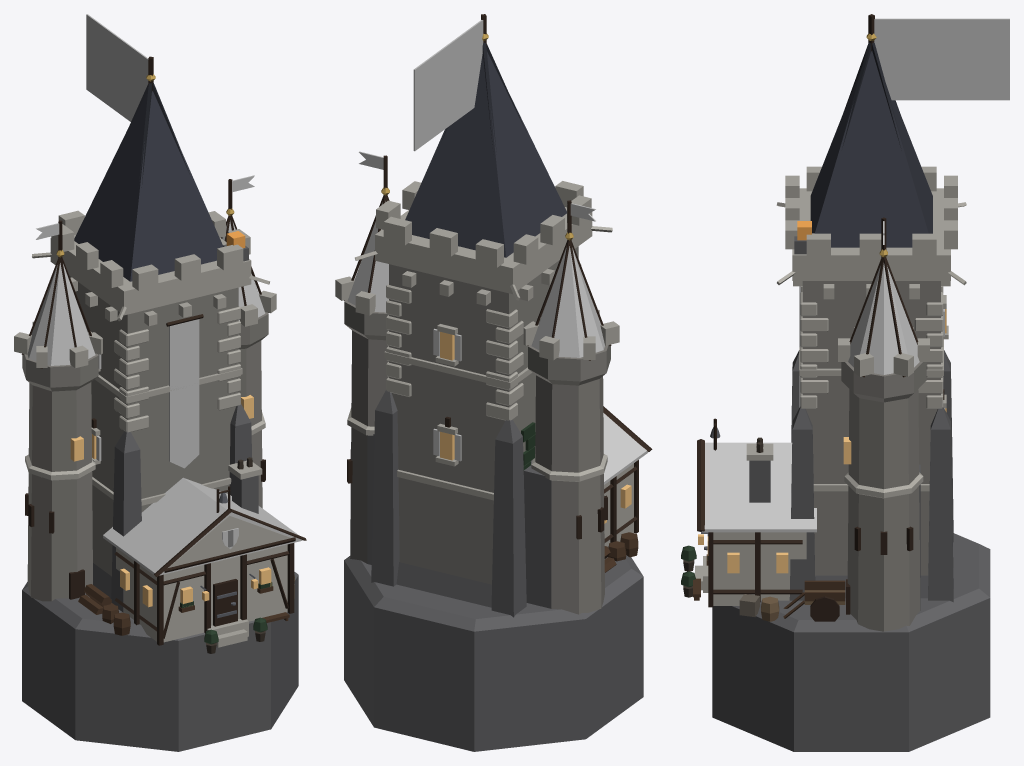
Rendered from seat.glb.
3 renders of one model, left to right at view 1: azimuth 30°, elevation 25°; view 2: azimuth 150°, elevation 25°; view 3: azimuth 270°, elevation 25°, orthographic. The views are drawn at different scales.
Visible parts, largest first — view 1: tower, round towers, keep close!fine, roof@blackwood, hall, hall roof, pennant, banner, cones, roof close@blackwood!fine, stores, hall lights (+1 smaller); view 2: tower, round towers, roof@blackwood, keep close!fine, pennant, cones, hall roof, hall, keep shutters!fine, tower windows, roof close@blackwood!fine, stores; view 3: tower, round towers, roof@blackwood, keep close!fine, pennant, hall roof, hall, cones, roof close@blackwood!fine, stores, keep lights!fine.
Boxes of the visible parts, x1=… form: tower: x1=22, y1=210, x2=298, y2=751; round towers: x1=14, y1=290, x2=276, y2=601; keep close!fine: x1=21, y1=216, x2=306, y2=653; roof@blackwood: x1=74, y1=91, x2=223, y2=281; hall: x1=116, y1=473, x2=294, y2=647; hall roof: x1=103, y1=477, x2=302, y2=575; pennant: x1=86, y1=14, x2=148, y2=121; banner: x1=169, y1=319, x2=199, y2=468; cones: x1=27, y1=220, x2=265, y2=365; roof close@blackwood!fine: x1=113, y1=74, x2=189, y2=187; stores: x1=102, y1=575, x2=294, y2=635; hall lights: x1=180, y1=567, x2=271, y2=605; tower: x1=344, y1=181, x2=643, y2=751; round towers: x1=335, y1=264, x2=619, y2=614; roof@blackwood: x1=405, y1=51, x2=566, y2=257; keep close!fine: x1=344, y1=195, x2=652, y2=607; pennant: x1=413, y1=20, x2=483, y2=151; cones: x1=347, y1=201, x2=604, y2=357; hall roof: x1=603, y1=413, x2=647, y2=484; hall: x1=604, y1=460, x2=638, y2=546; keep shutters!fine: x1=433, y1=328, x2=461, y2=461; tower windows: x1=440, y1=332, x2=454, y2=460; roof close@blackwood!fine: x1=442, y1=33, x2=526, y2=154; stores: x1=608, y1=532, x2=638, y2=561; tower: x1=712, y1=166, x2=990, y2=751; round towers: x1=838, y1=327, x2=929, y2=631; roof@blackwood: x1=810, y1=51, x2=932, y2=247; keep close!fine: x1=683, y1=202, x2=966, y2=621; pennant: x1=874, y1=18, x2=1009, y2=100; hall roof: x1=703, y1=442, x2=816, y2=532; hall: x1=695, y1=460, x2=806, y2=607; cones: x1=848, y1=263, x2=919, y2=374; roof close@blackwood!fine: x1=840, y1=33, x2=903, y2=148; stores: x1=739, y1=594, x2=779, y2=621; keep lights!fine: x1=727, y1=552, x2=788, y2=573.
Bounding box in the file's own units: 7.36 × 18.4 × 8.09.
